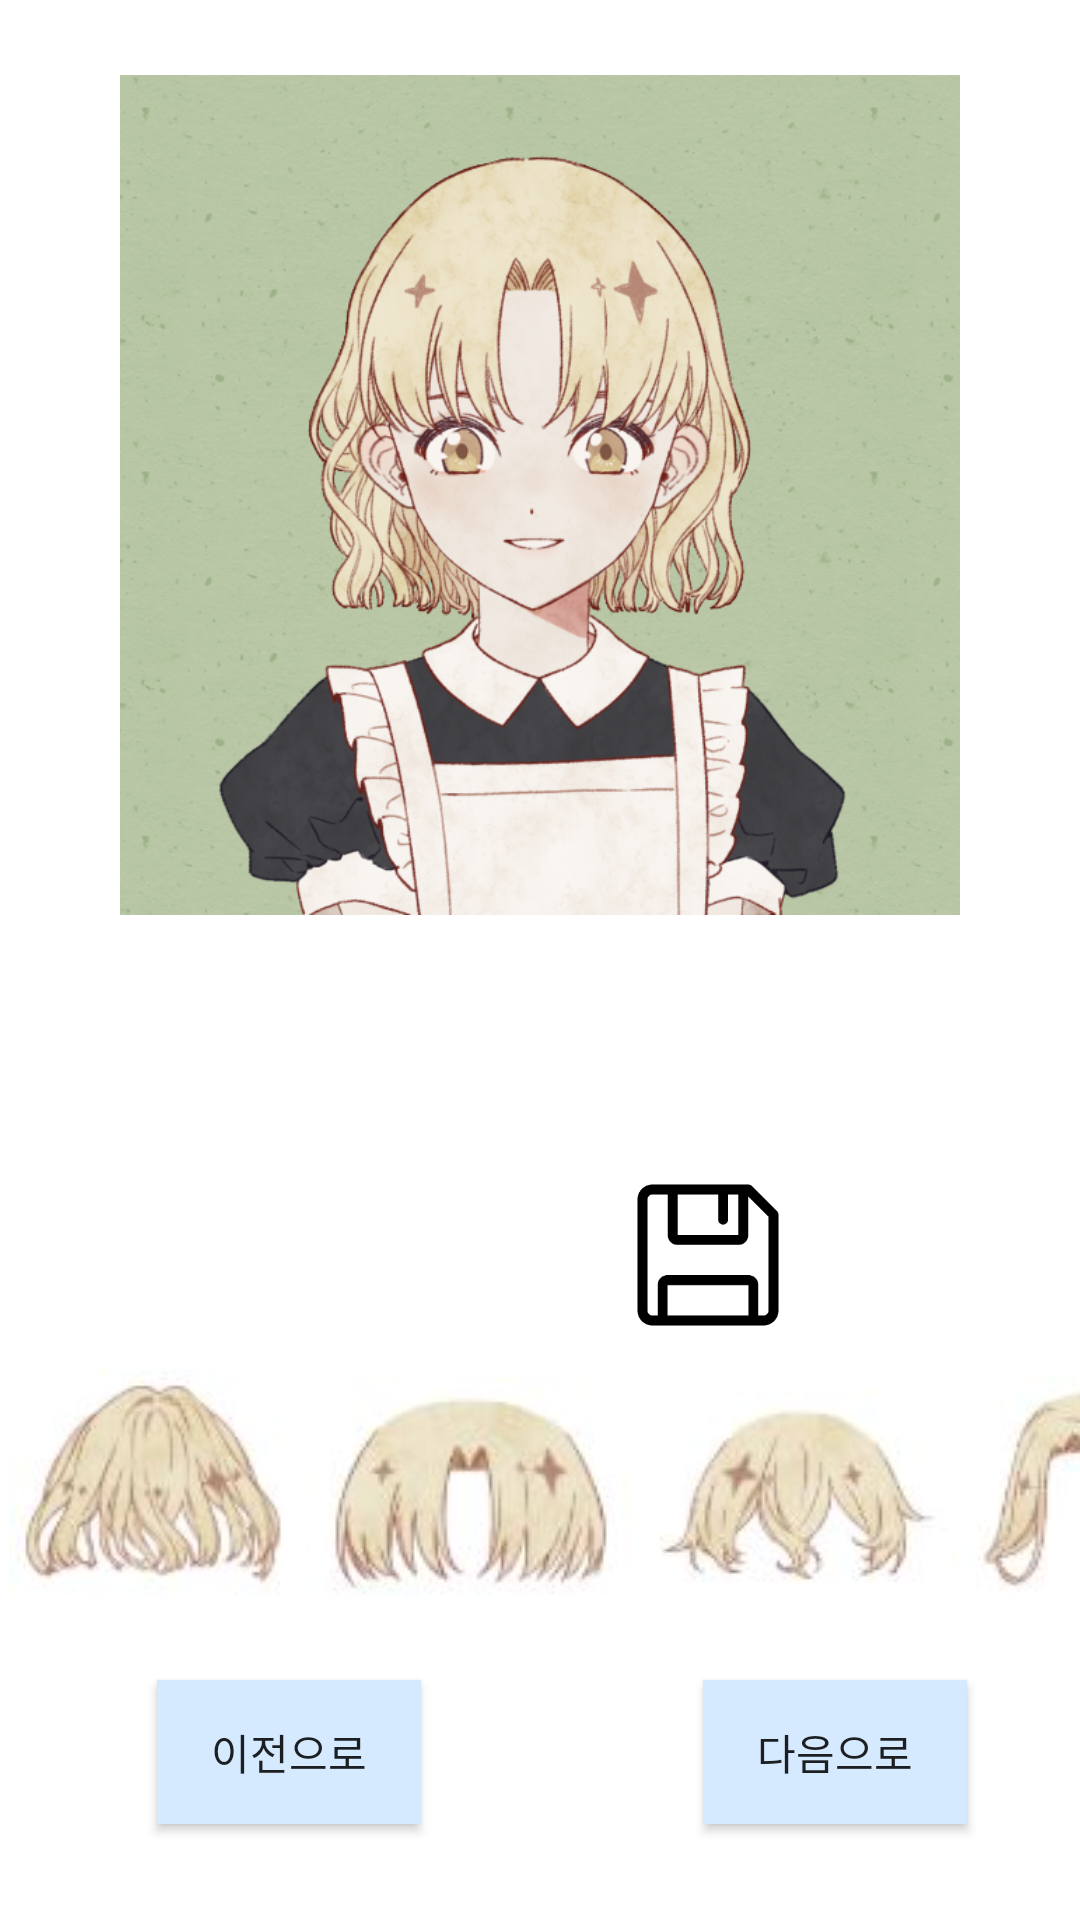

Screen size 1080px×1920px. Icon name, then its box in pixels as (x1, y1, x2, y2):
save: (637, 1184, 779, 1326)
